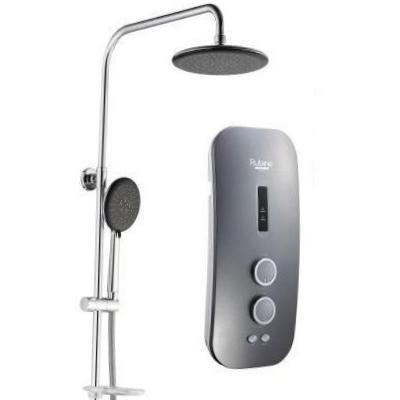Ducha: (59, 0, 337, 399)
